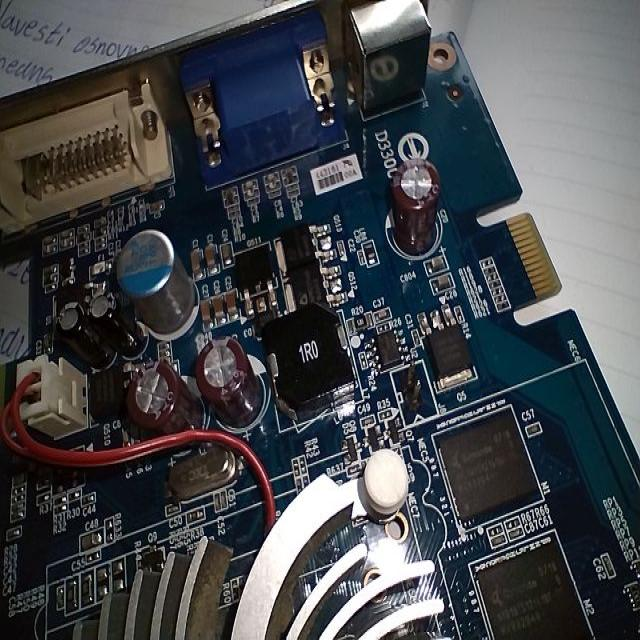capacitor: (196, 296, 213, 324), (190, 242, 202, 278), (428, 250, 448, 268), (204, 243, 217, 270), (227, 289, 238, 320), (213, 291, 223, 321), (433, 273, 453, 288), (62, 224, 76, 240), (378, 308, 389, 322), (44, 237, 58, 244)
resistor: (352, 312, 367, 328), (482, 256, 494, 268), (487, 273, 502, 280), (494, 295, 507, 303)
